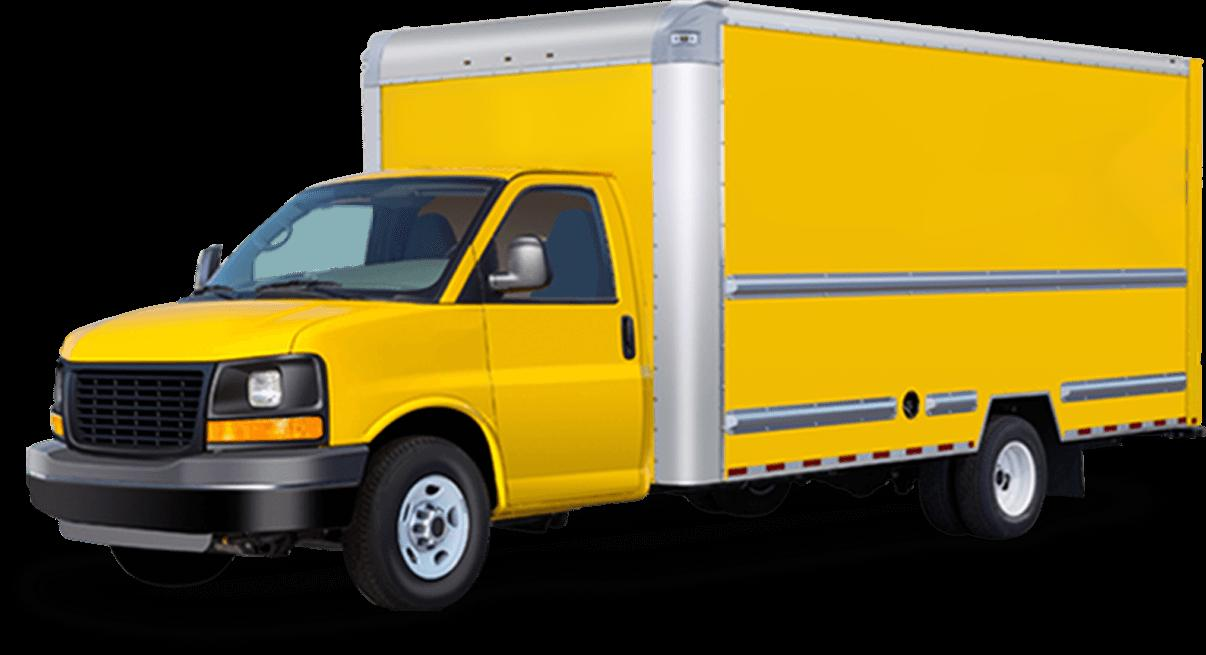truck: (25, 1, 1204, 612)
